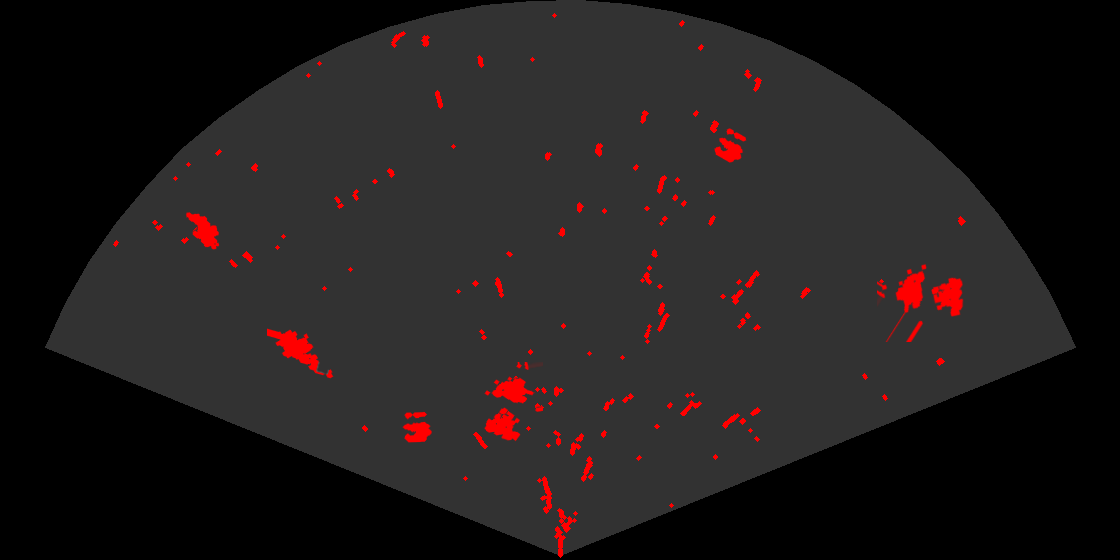AUV: (184, 211, 221, 251)
ball: (713, 127, 748, 164), (401, 410, 433, 444)
cage: (877, 262, 965, 342), (483, 362, 543, 443)
frogman: (267, 327, 335, 380)
